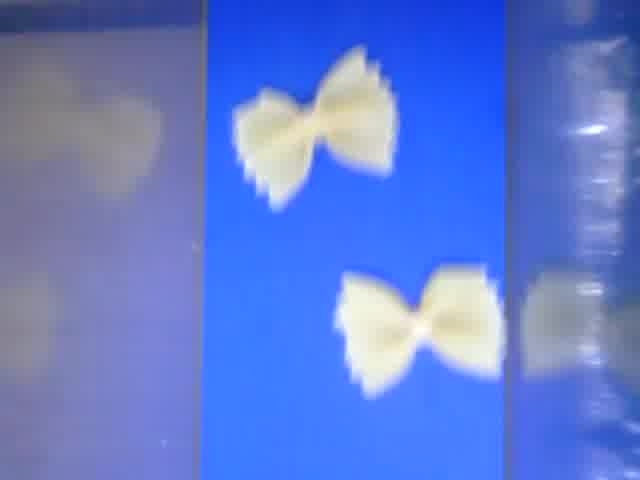farfalle: (233, 43, 399, 212), (335, 265, 506, 396)
